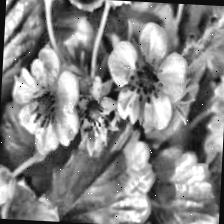Blossom Blight: (126, 53, 166, 106), (26, 82, 60, 130), (78, 94, 108, 134)
